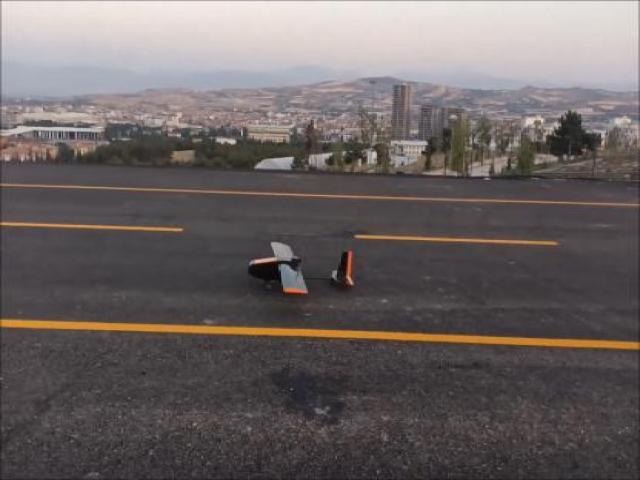uav: (240, 232, 358, 310)
